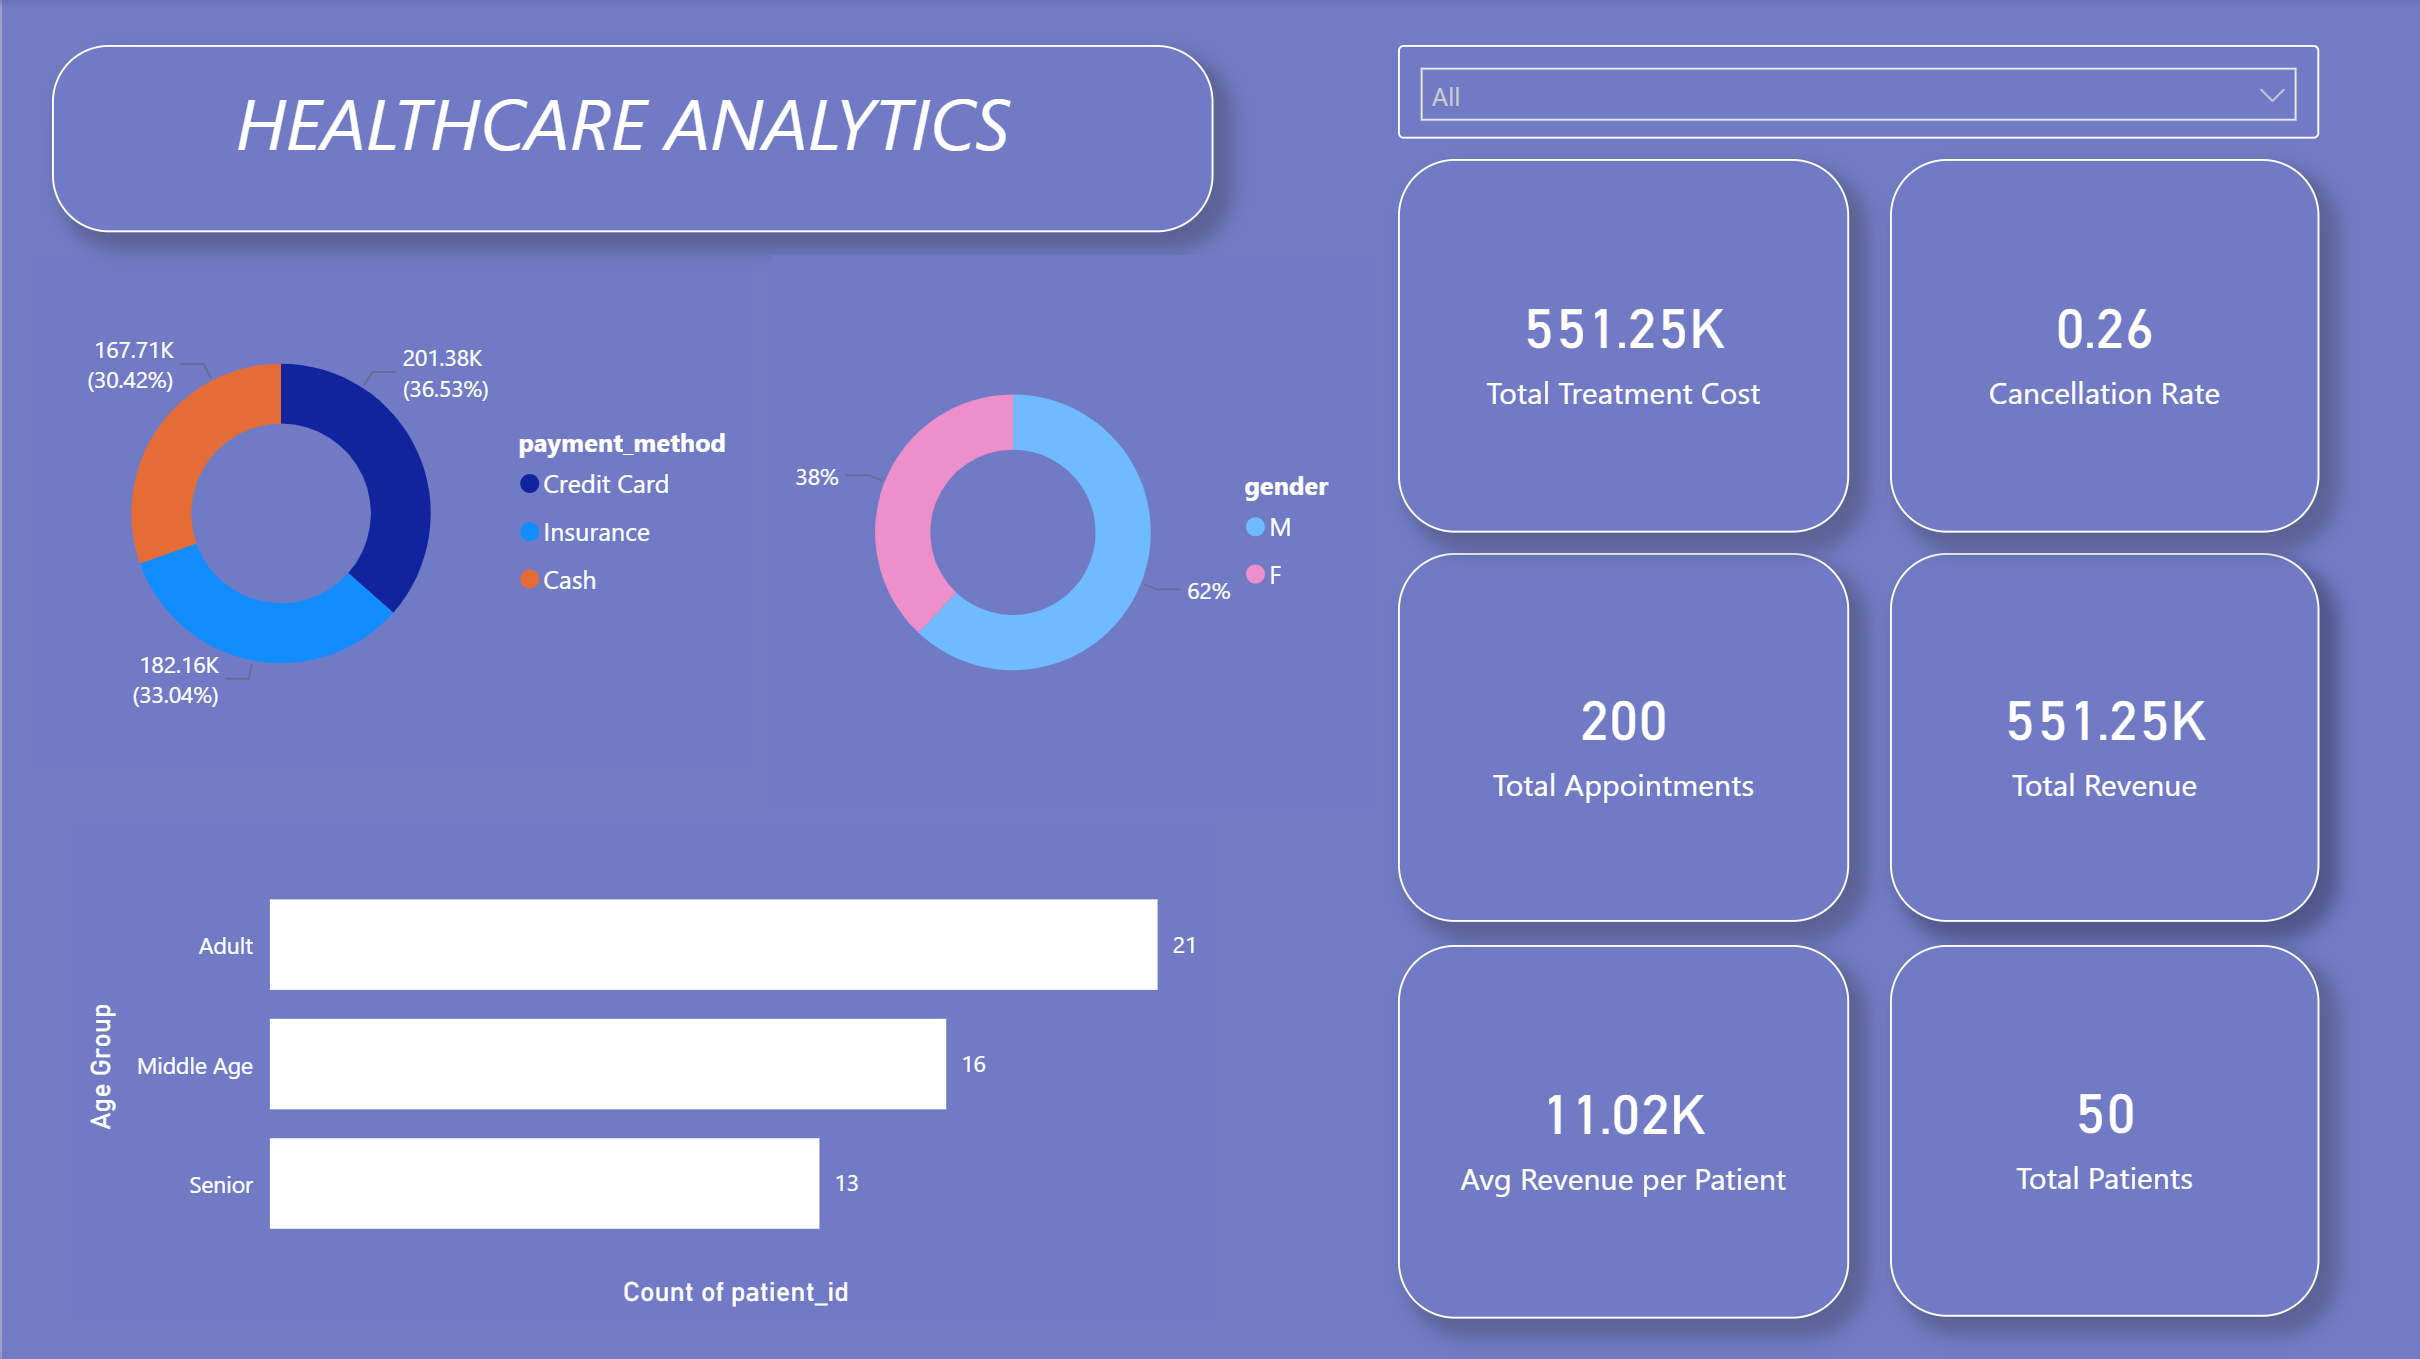

The dashboard page shown, as its layout file describes it:
{"tool":"powerbi","page":{"name":"Overview","canvas":[1280,720],"ordinal":0},"visuals":[{"type":"card","fields":{"Values":["appointments.Total Appointments"]},"box":[738.2,293.2,238.4,195.1],"z":0},{"type":"card","fields":{"Values":["billing.Total Revenue"]},"box":[998.2,293.2,226.9,195.1],"z":1000},{"type":"card","fields":{"Values":["treatments.Total Treatment Cost"]},"box":[738.2,84.1,238.4,197.6],"z":2000},{"type":"card","fields":{"Values":["patients.Total Patients"]},"box":[998.2,499.8,226.9,196.3],"z":3000},{"type":"card","fields":{"Values":["appointments.Cancellation Rate"]},"box":[998.2,84.1,226.9,197.6],"z":4000},{"type":"clusteredBarChart","fields":{"Category":["patients.Age Group"],"Y":["CountNonNull(patients.patient_id)"]},"box":[39.5,437.3,600.5,258.8],"z":5000},{"type":"donutChart","fields":{"Category":["billing.payment_method"],"Y":["Sum(billing.amount)"]},"box":[37,155.5,603,269],"z":6000},{"type":"textbox","box":[26.9,24,613.8,98.8],"z":7000},{"type":"slicer","fields":{"Values":["appointments.appointment_date"]},"box":[738.2,24.2,487,49.7],"z":8000},{"type":"card","fields":{"Values":["billing.Avg Revenue per Patient"]},"box":[738.2,499.8,238.4,197.6],"z":9000}]}

Visuals, with their boxes in screenshot pixels (x1, y1, x2, y2), scaled from the page's 1280x720 canvas onto the 2420x1359 screenshot:
card - appointments.Total Appointments: [x1=1396, y1=553, x2=1846, y2=922]
card - billing.Total Revenue: [x1=1887, y1=553, x2=2316, y2=922]
card - treatments.Total Treatment Cost: [x1=1396, y1=159, x2=1846, y2=532]
card - patients.Total Patients: [x1=1887, y1=943, x2=2316, y2=1314]
card - appointments.Cancellation Rate: [x1=1887, y1=159, x2=2316, y2=532]
clusteredBarChart - patients.Age Group x CountNonNull(patients.patient_id): [x1=75, y1=825, x2=1210, y2=1314]
donutChart - billing.payment_method x Sum(billing.amount): [x1=70, y1=294, x2=1210, y2=801]
textbox: [x1=51, y1=45, x2=1211, y2=232]
slicer - appointments.appointment_date: [x1=1396, y1=46, x2=2316, y2=139]
card - billing.Avg Revenue per Patient: [x1=1396, y1=943, x2=1846, y2=1316]
